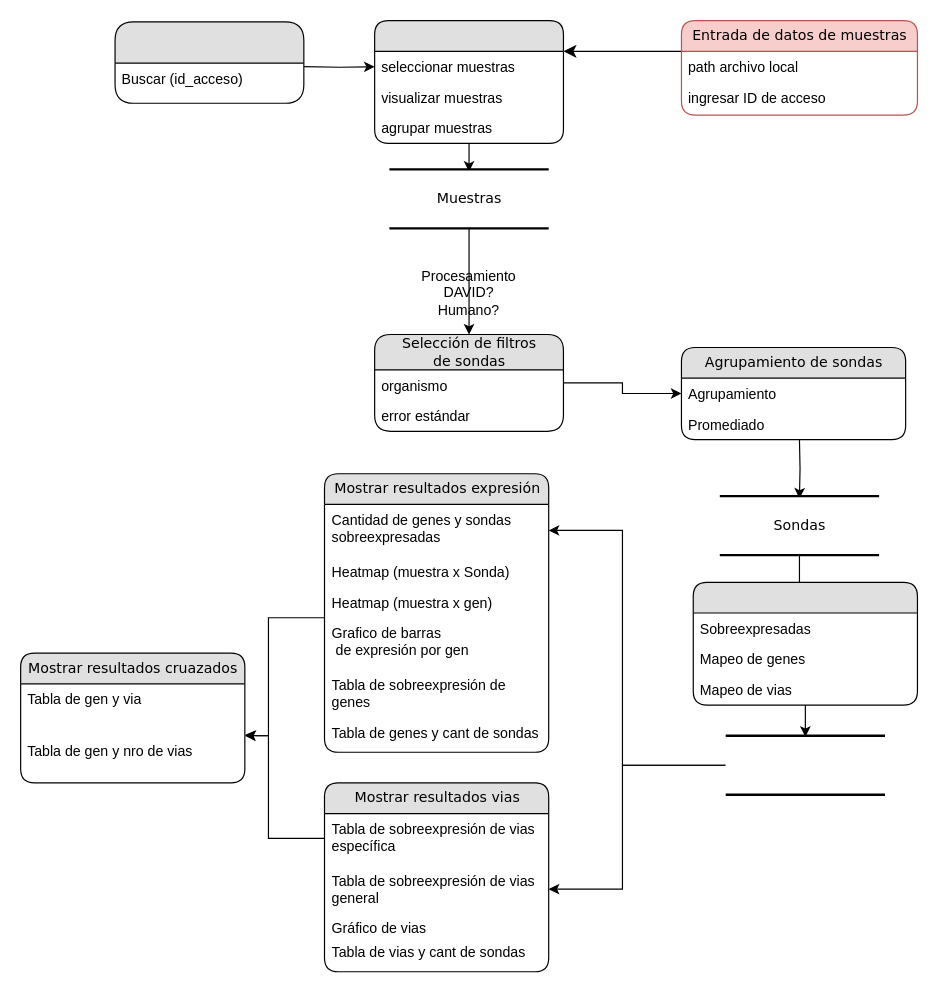
Some shapes in this 938 by 992 pixel diagram are drawn without their labels. The box of each missing label's shape, as (x1, y1, x2, y2) in pixels:
Descarga de metadatos de muestras?: (114, 21, 304, 103)
Procesamiento de sondas: (692, 581, 917, 705)
Resultados: (724, 734, 886, 795)
Selección de muestras: (373, 19, 563, 143)
